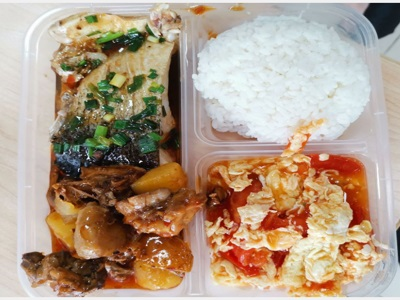jdxhs: (208, 152, 369, 286)
jrtd: (32, 169, 179, 286)
rice: (206, 18, 362, 143)
yd: (44, 15, 178, 154)
